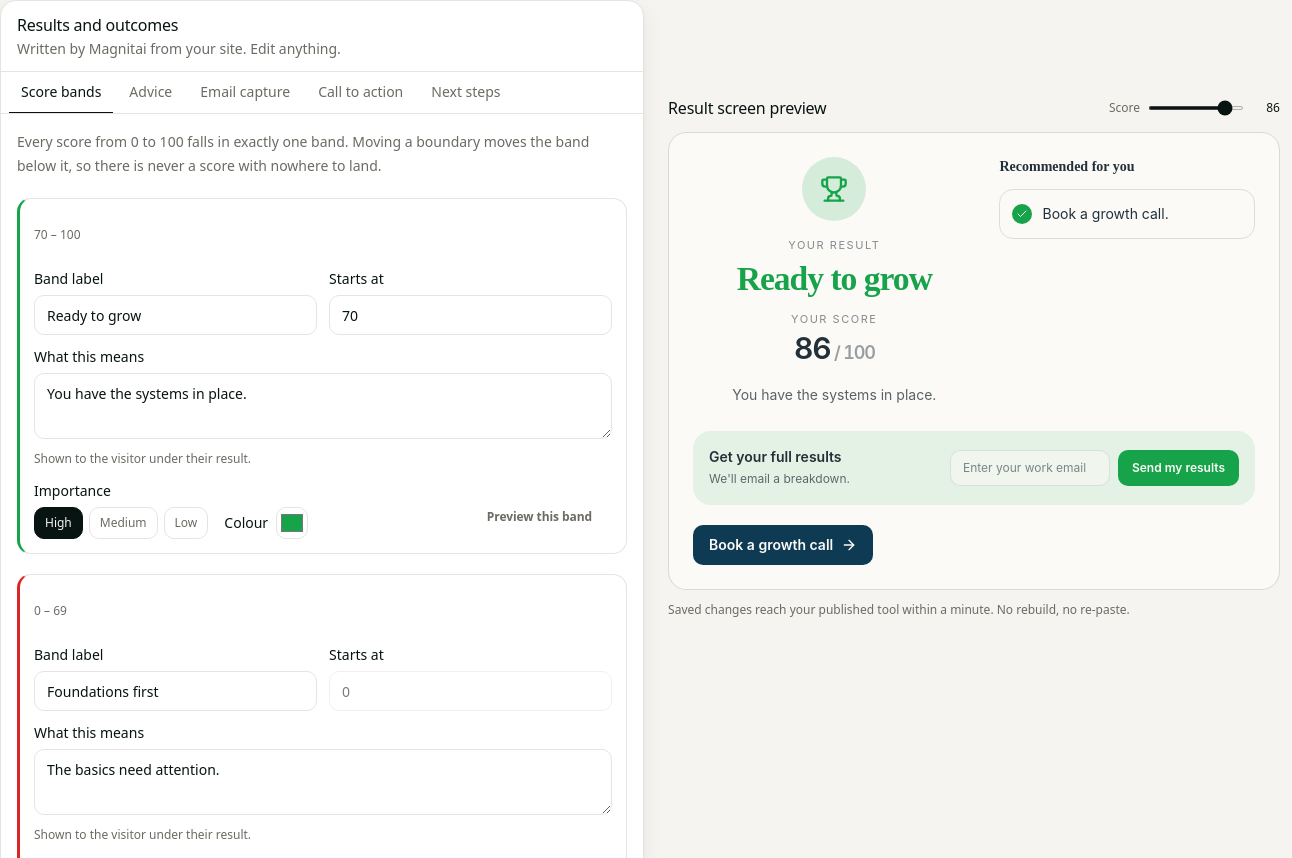
Scenario: outcomes editor › moving a boundary moves its neighbour so no score is orphaned
Expected: the field showing "Ready to grow" below "70" is shown, [34, 295, 317, 335]
Replace the text in the 1st number field showing "70" with "80" at [470, 315], box [329, 295, 612, 335]
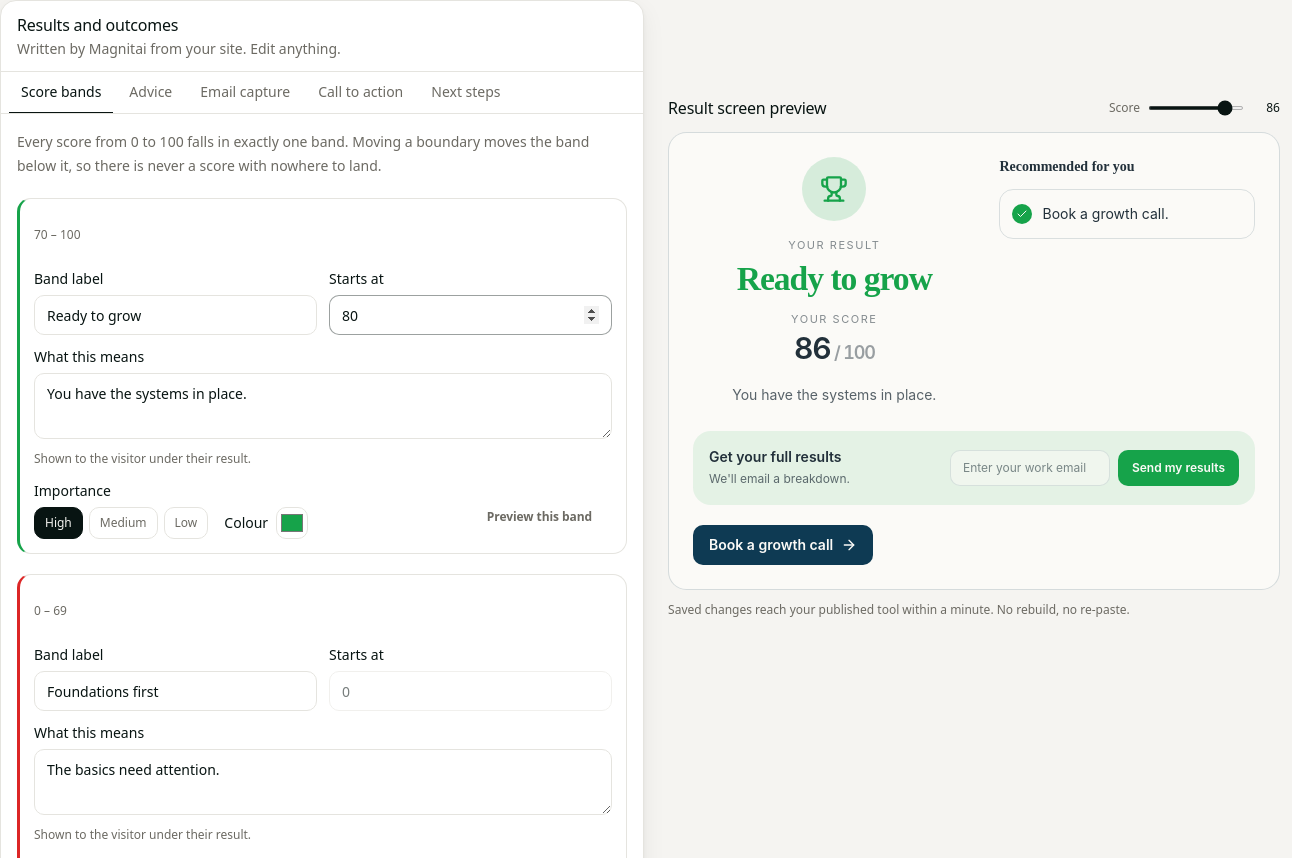
Press Tab
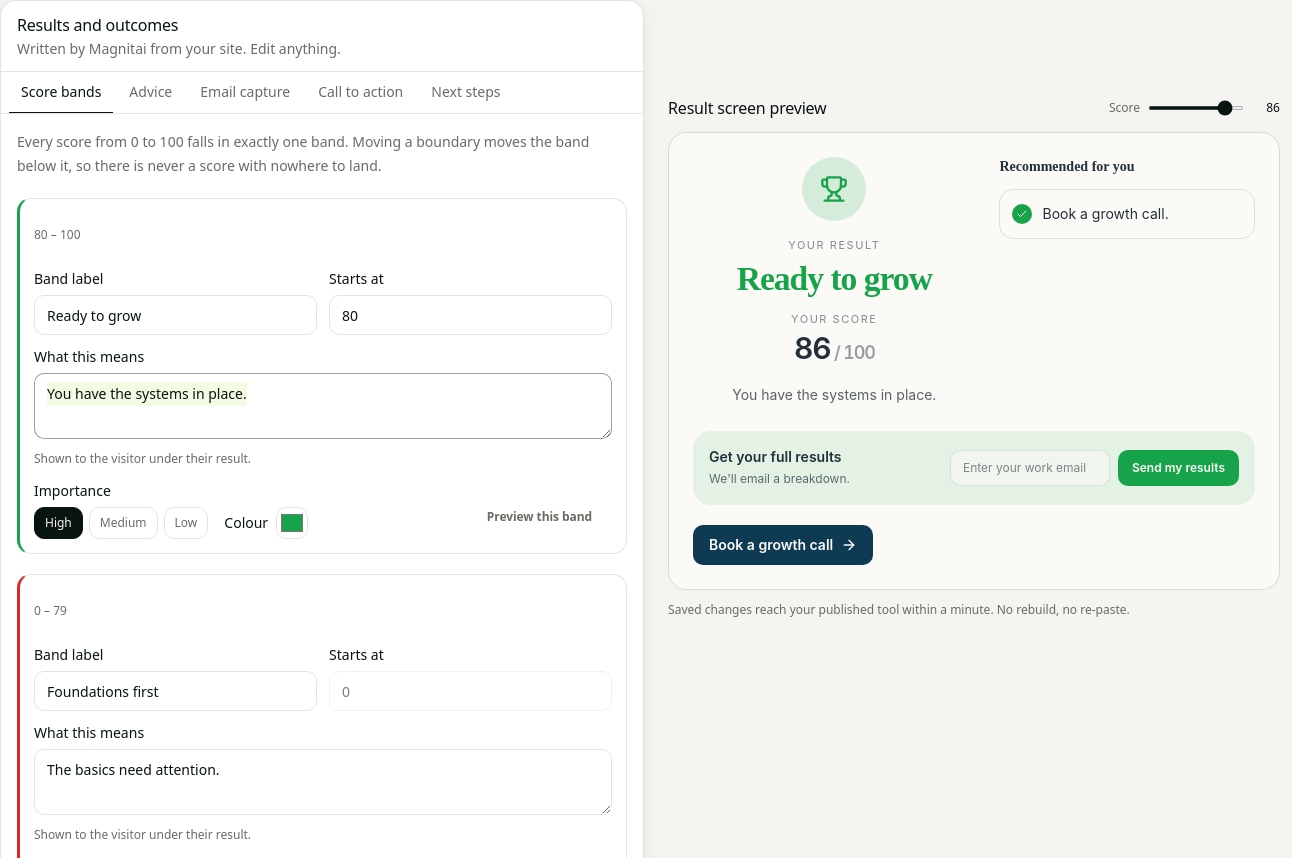
Now the text "80 – 100" is shown, box [34, 227, 81, 243]
Now the text "0 – 79" is shown, box [34, 603, 67, 619]
